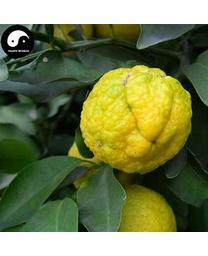lemon: (80, 64, 193, 175)
